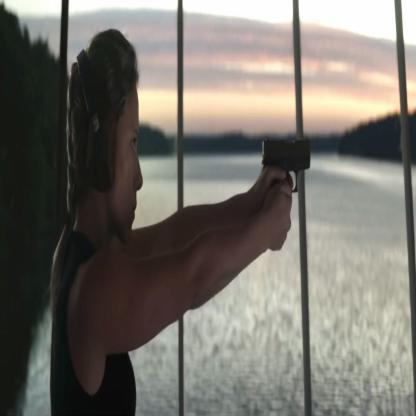Pistol: (259, 128, 312, 228)
